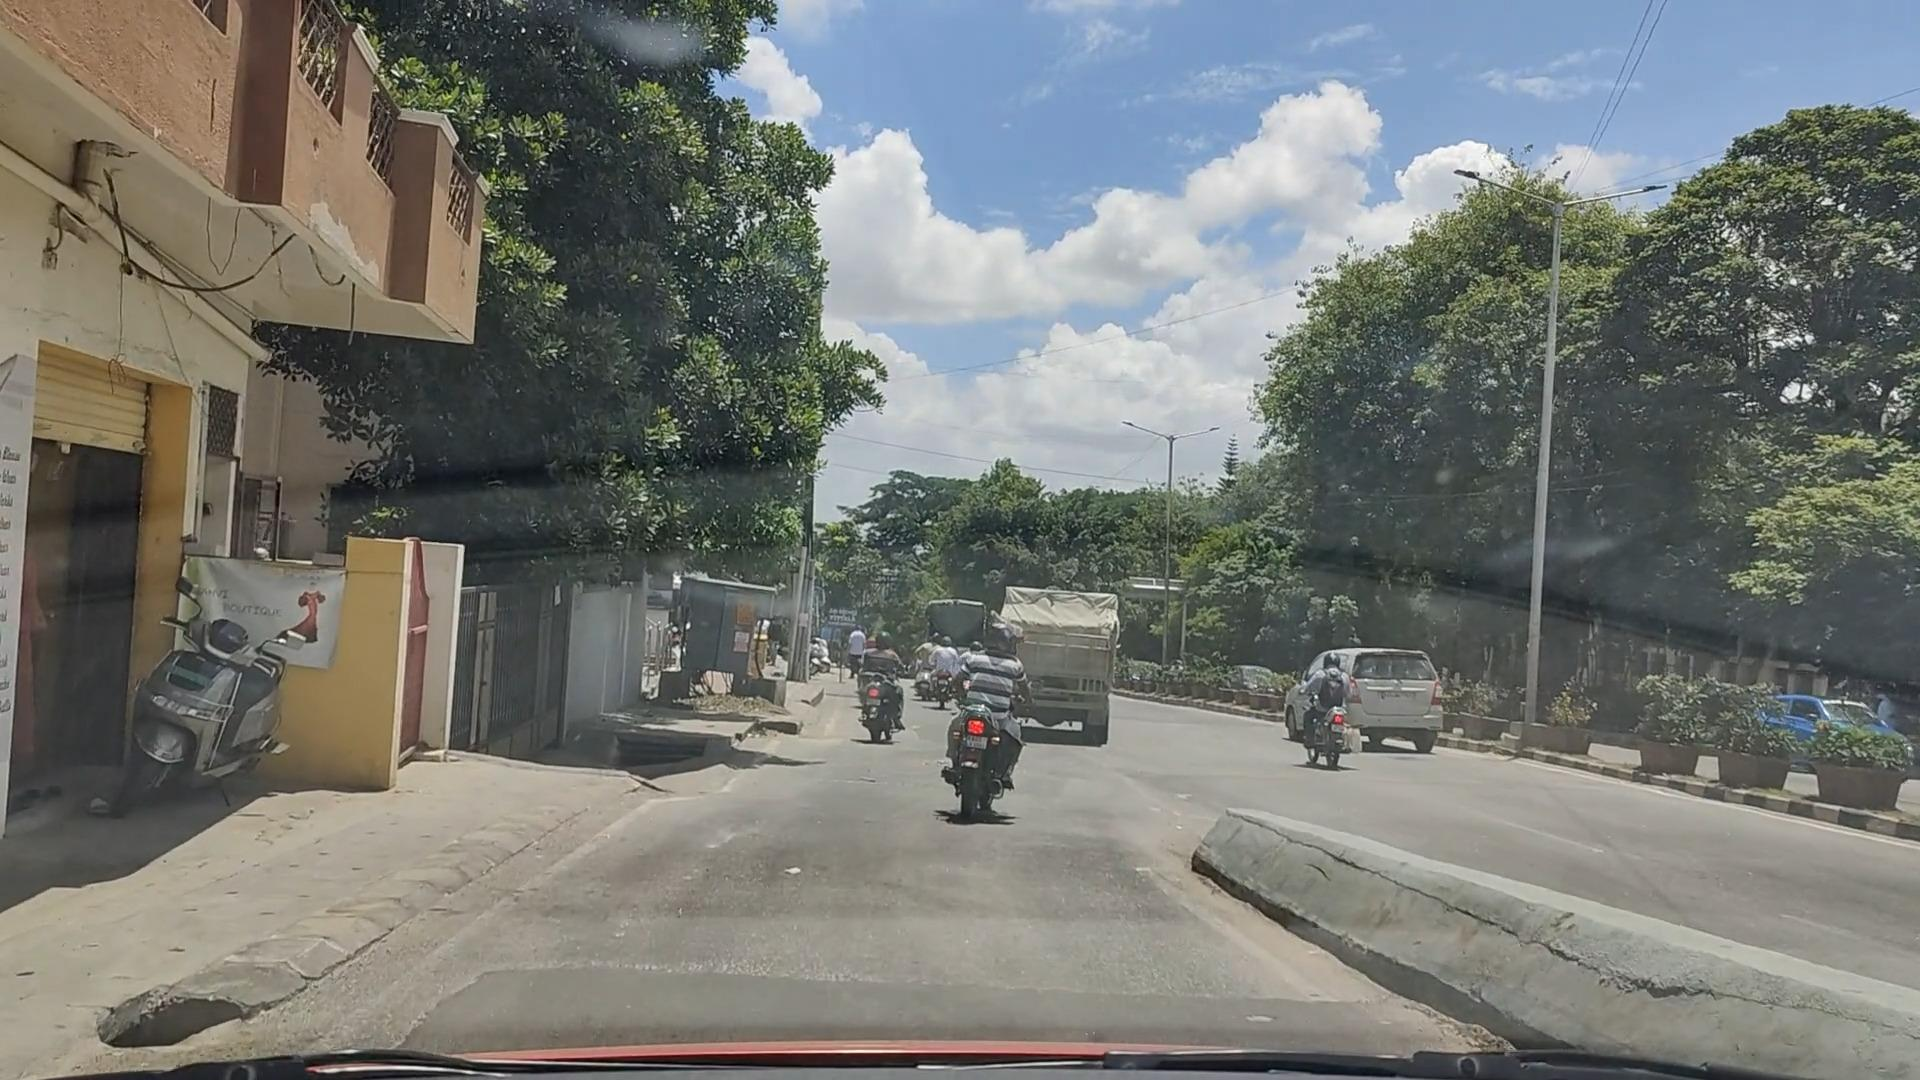HMV: (963, 567, 1127, 742)
RoadDamages: (54, 945, 284, 1080)
